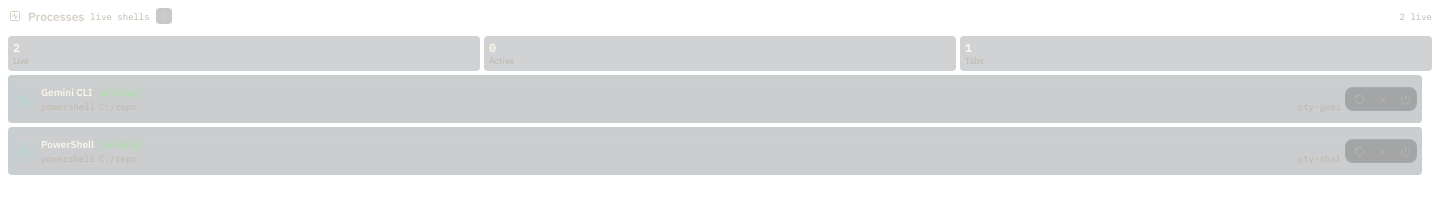
ProcessManagerPanel › surfaces pane close failures without clearing the row
Click the button named "Close Gemini CLI pane". click: coordinates (1382, 99)
box: left=1371, top=88, right=1393, bottom=110
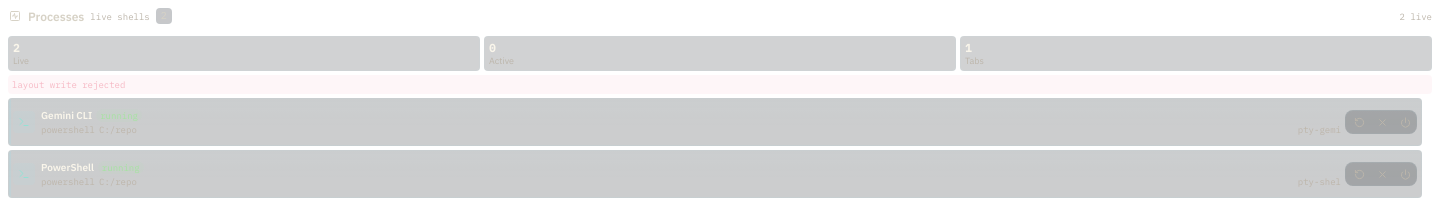
Check: the text "Gemini CLI" is shown, box left=41, top=109, right=92, bottom=122
Check: the text "layout write rejected" is shown, box left=8, top=75, right=1432, bottom=94
